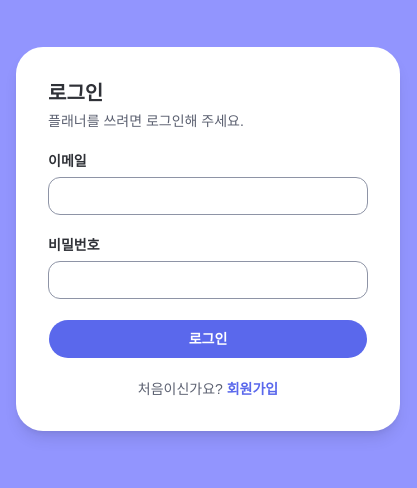
Test: AuthGate: 로그인 문지기 › 회원가입: 이미 가입한 이메일이면 로그인하라고 알려 준다
Click the button "회원가입" at (252, 389), box x1=227 y1=379 x2=278 y2=399
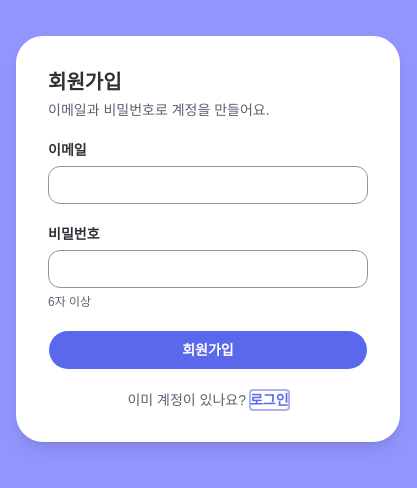
Type "me@example.com" into the field labelled "이메일" at (208, 185), box x1=48 y1=166 x2=368 y2=204
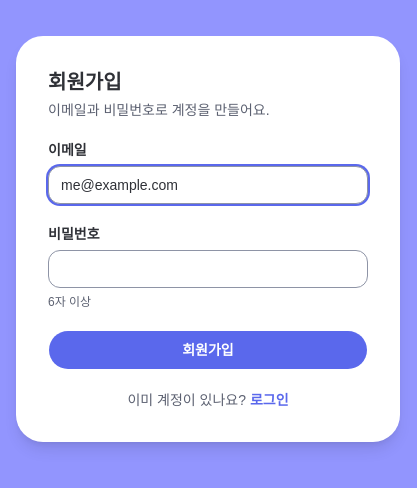
Type "secret123" into the password field labelled "비밀번호" at (208, 269), box x1=48 y1=250 x2=368 y2=288
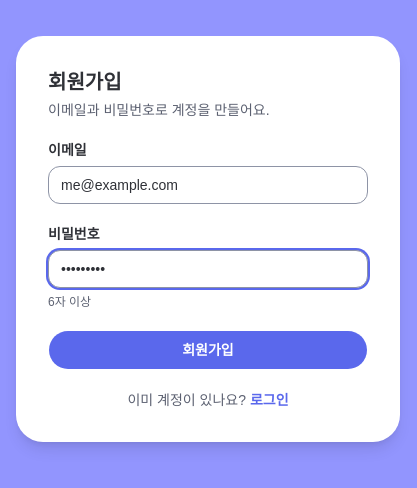
Click the button "회원가입" at (208, 350), box x1=48 y1=330 x2=368 y2=370
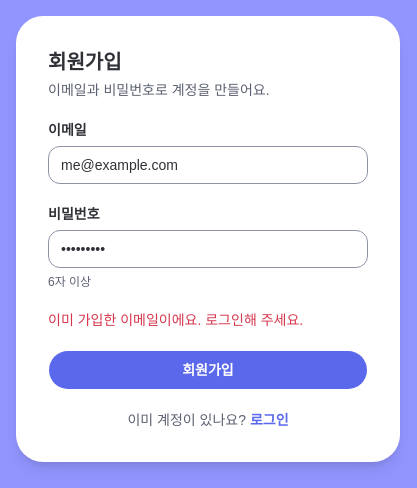
Check: the message shows "이미 가입한 이메일", box x1=48 y1=312 x2=303 y2=328
